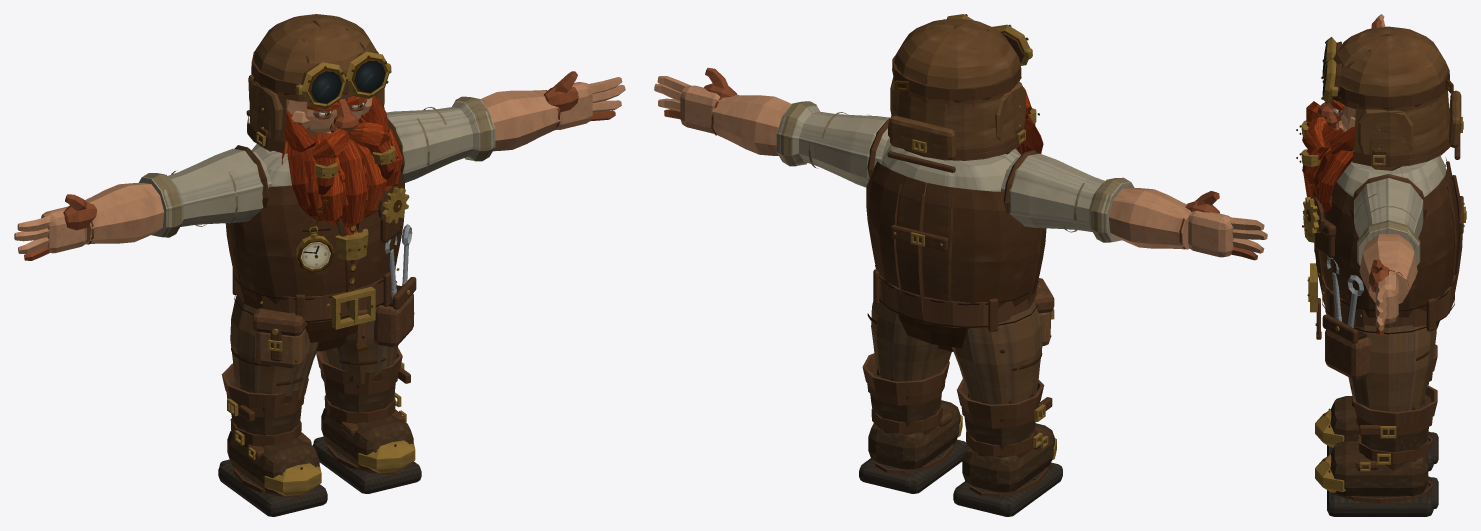
Rendered from steampunk_dwarf.glb.
The picture shows the model from 3 angles, left to right: view 1: azimuth 30°, elevation 25°; view 2: azimuth 150°, elevation 25°; view 3: azimuth 270°, elevation 25°; orthographic projection. The views are drawn at different scales.
Parts seen in each view (by area): view 1: shirt_sleeve (×2), boot_r, boot_l, vest_panel_r, beard, hat, forearm (×2), belt, pants_r, goggles, belt_pouch, tool_pouch (+12 smaller); view 2: hat, shirt_sleeve (×2), vest_panel_r, boot_r, boot_l, forearm (×2), pants_r, vest_panel_l, belt, pants_l, palm (×2), torso (+7 smaller); view 3: hat, boot_l, vest_panel_l, pants_l, shirt_sleeve, tool_pouch, belt, beard, forearm, boot_r, torso, hat_ear_flap (+10 smaller).
Part boxes in pixels (x1,y1,x2,y2): shirt_sleeve (×2): (138,97,495,237); boot_r: (218,363,327,516); boot_l: (312,348,421,493); vest_panel_r: (225,185,345,304); beard: (281,95,402,262); hat: (246,14,384,153); forearm (×2): (85,90,560,243); belt: (232,261,399,351); pants_r: (230,293,318,404); goggles: (295,51,391,109); belt_pouch: (252,308,307,368); tool_pouch: (374,224,416,346); hat: (887,18,1026,172); shirt_sleeve (×2): (776,101,1134,242); vest_panel_r: (922,183,1046,307); boot_r: (953,379,1062,516); boot_l: (859,353,967,493); forearm (×2): (711,95,1191,249); pants_r: (952,301,1042,404); vest_panel_l: (866,161,926,295); belt: (873,265,1040,331); pants_l: (867,295,951,381); palm (×2): (680,85,1233,257); torso: (881,145,1020,194); hat: (1333,26,1463,167); boot_l: (1315,385,1438,516); vest_panel_l: (1319,166,1458,317); pants_l: (1348,323,1436,415); shirt_sleeve: (1354,178,1423,265); tool_pouch: (1322,256,1371,379); belt: (1307,263,1455,339); beard: (1302,117,1355,242); forearm: (1359,234,1417,303); boot_r: (1315,344,1438,471); torso: (1314,156,1446,276); hat_ear_flap: (1358,109,1413,170).
Bounding box in the file's own units: 1.81 × 1.3 × 0.4468.
31 materials, 25 textured.
